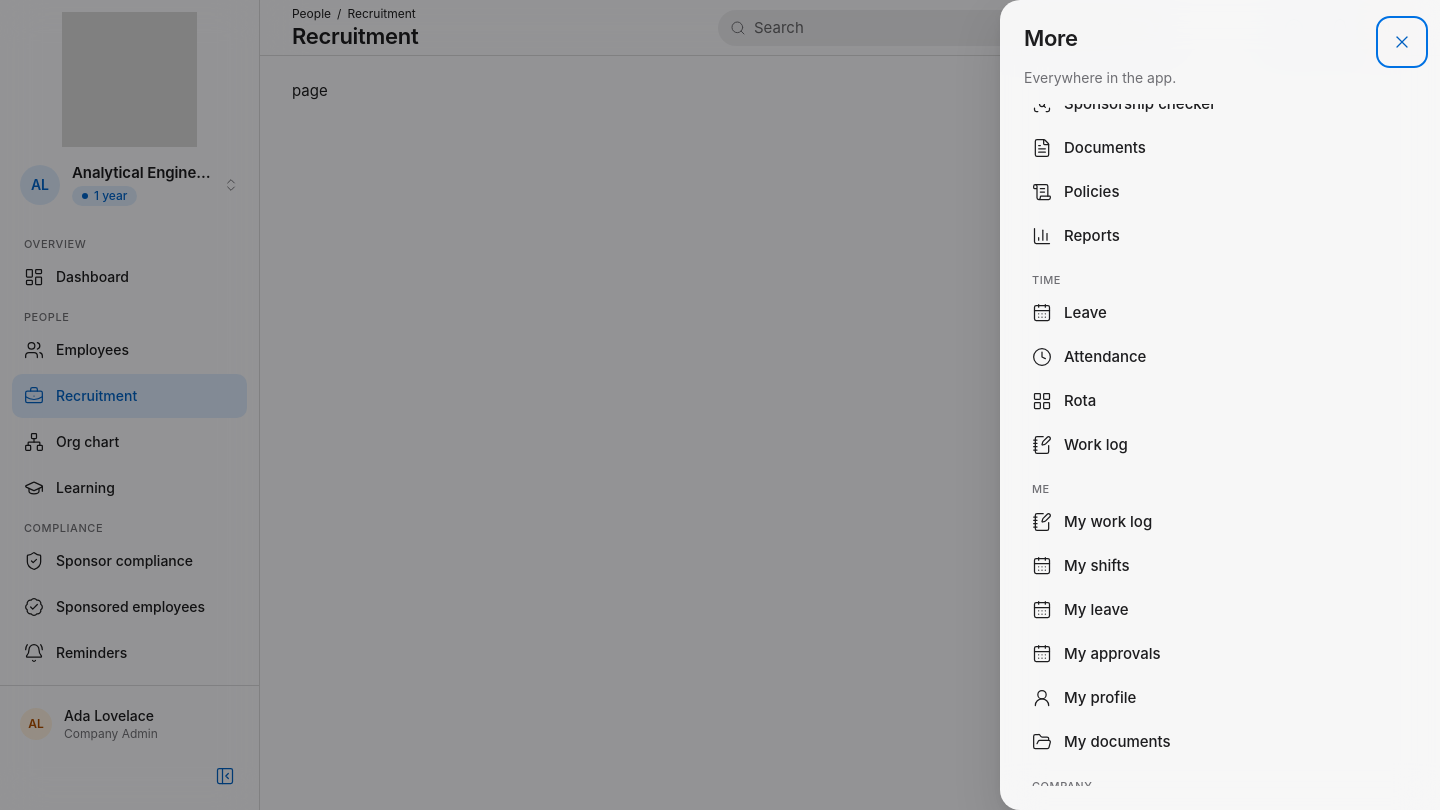
Test: the phone tab bar › More opens a sheet with every page, and choosing one closes it
Earlier steps of the test are not shown.
(page scrolled)
Click the link "Work log": {"x": 1080, "y": 445} [1032,435,1128,455]
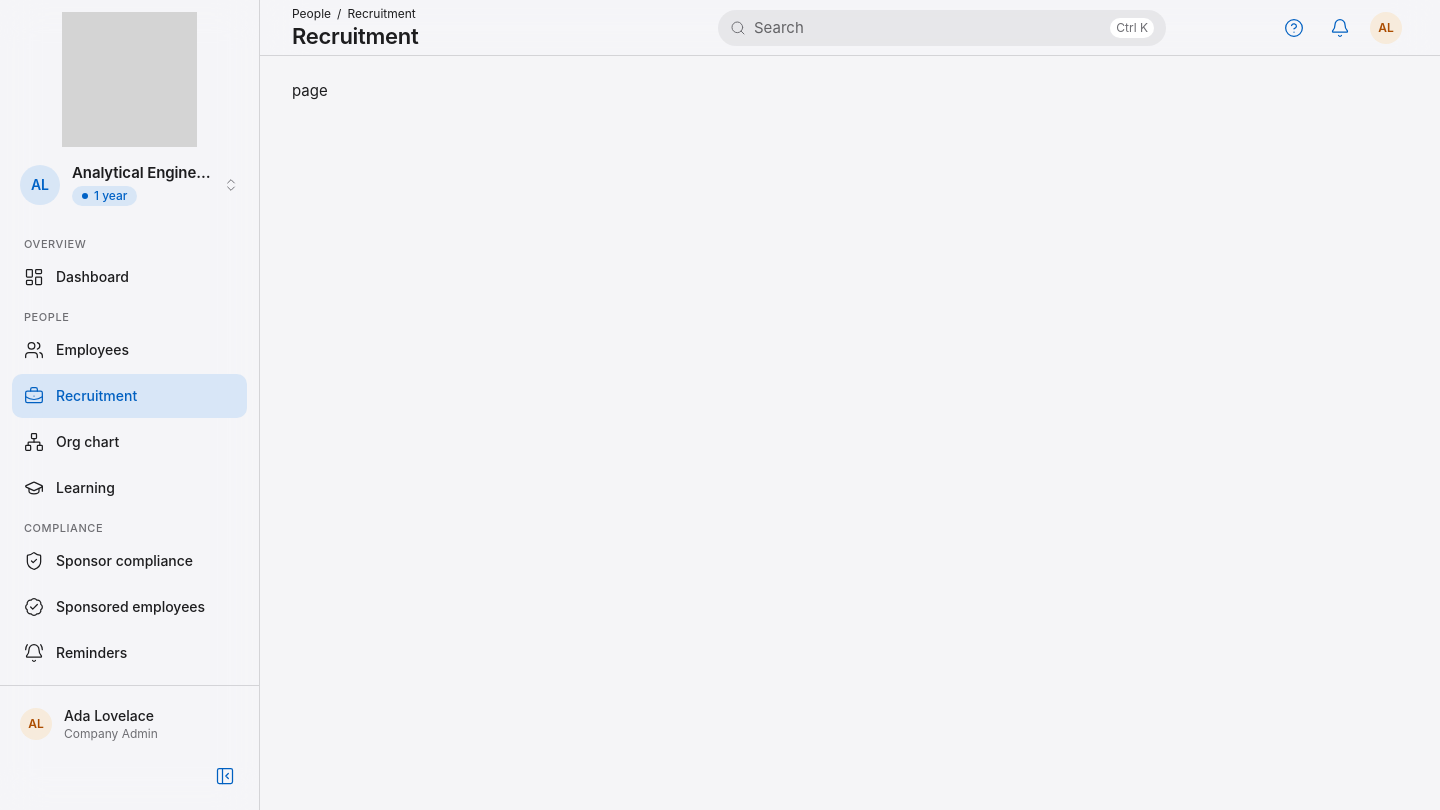
Now the heading "More" is gone
